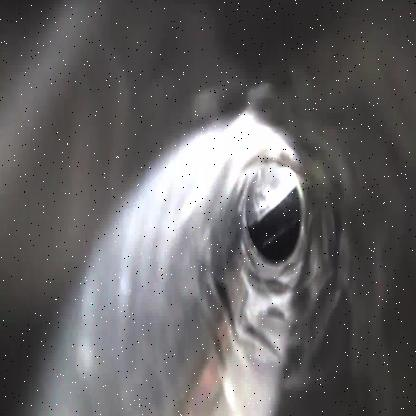Crack: (199, 108, 343, 367)
